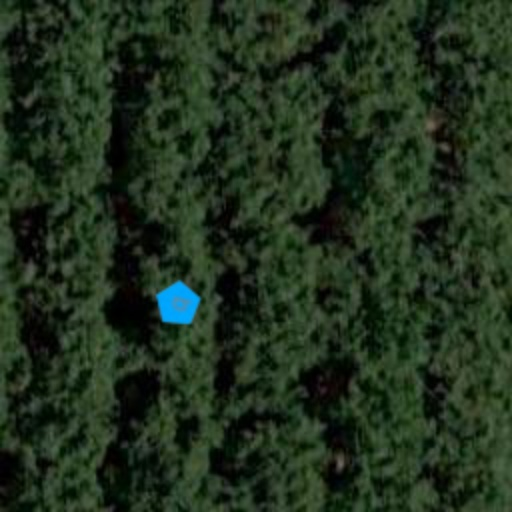pentagon: (152, 278, 204, 330)
